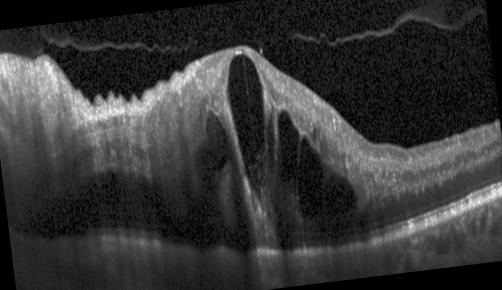intraretinal_cyst: (227, 53, 266, 200), (297, 136, 324, 218), (193, 109, 228, 171), (276, 110, 299, 183), (323, 170, 357, 212), (265, 111, 275, 173)
neuroepithelium_detachment: (27, 171, 249, 245)
vitreomacular_traction: (263, 7, 484, 48), (41, 31, 202, 53)
